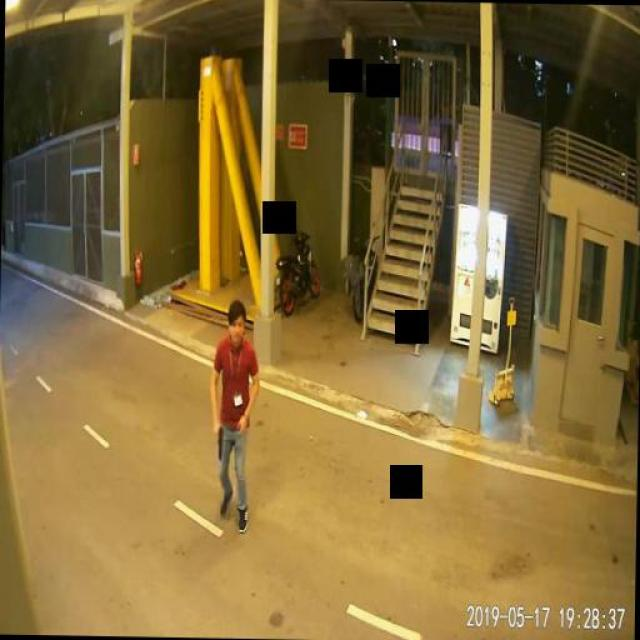gun: (211, 421, 221, 459)
